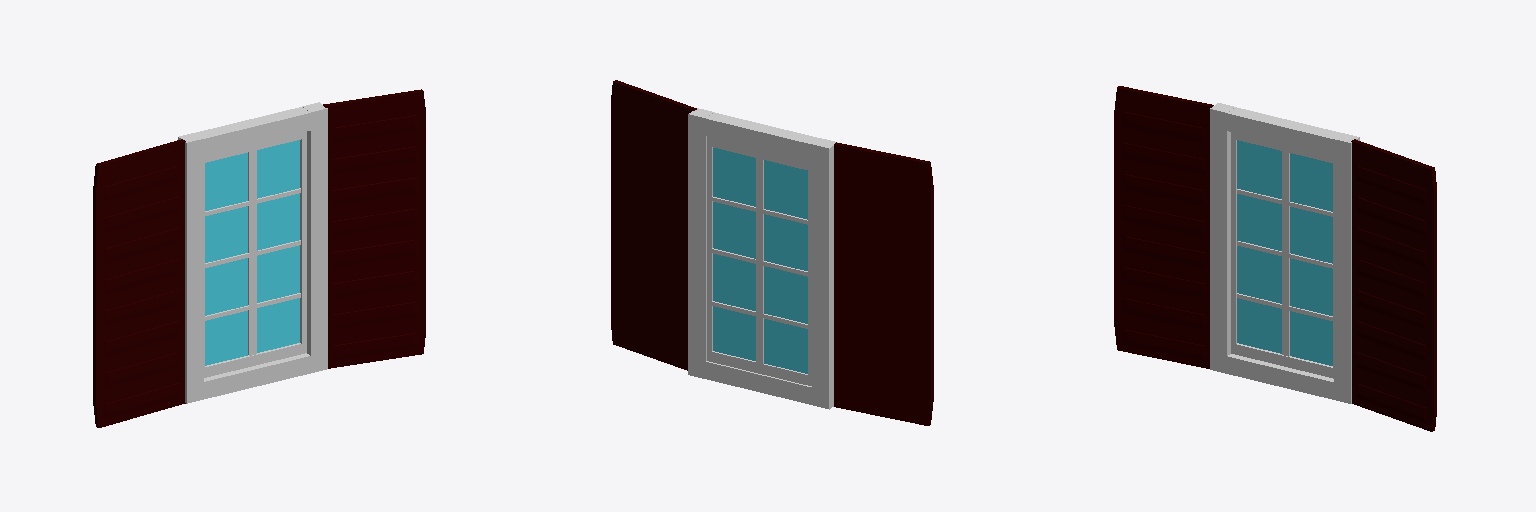
File: Window_166.obj
The picture shows the model from 3 angles: view 1: azimuth 30°, elevation 25°; view 2: azimuth 150°, elevation 25°; view 3: azimuth 330°, elevation 25°; orthographic projection.
Visible parts, largest first — view 1: Box007; view 2: Box007; view 3: Box007.
Boxes of the visible parts, x1=… form: Box007: x1=93, y1=89, x2=425, y2=427; Box007: x1=611, y1=80, x2=933, y2=425; Box007: x1=1114, y1=86, x2=1436, y2=431.
Bounding box in the file's own units: 157 × 121 × 13.62.